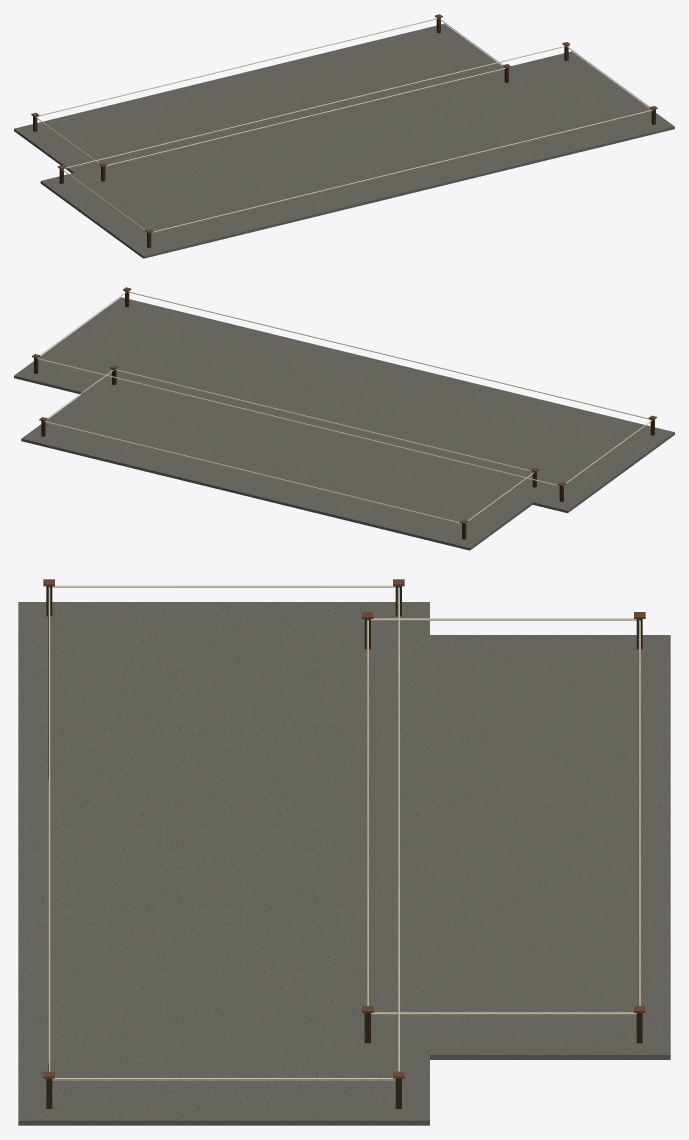
The model's file is fun-2-site.glb.
The picture shows the model from 3 angles, top to bottom: view 1: azimuth 30°, elevation 25°; view 2: azimuth 150°, elevation 25°; view 3: azimuth 270°, elevation 25°; orthographic projection. The views are drawn at different scales.
Bounding box in the file's own units: 31.6 × 1.09 × 16.8.
Materials: 4 (1 with a texture image).
